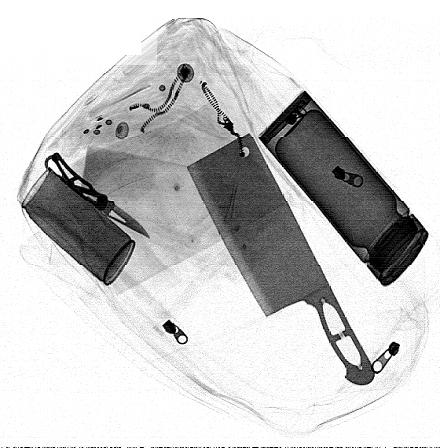Knife: (186, 133, 376, 386), (44, 153, 152, 239)
